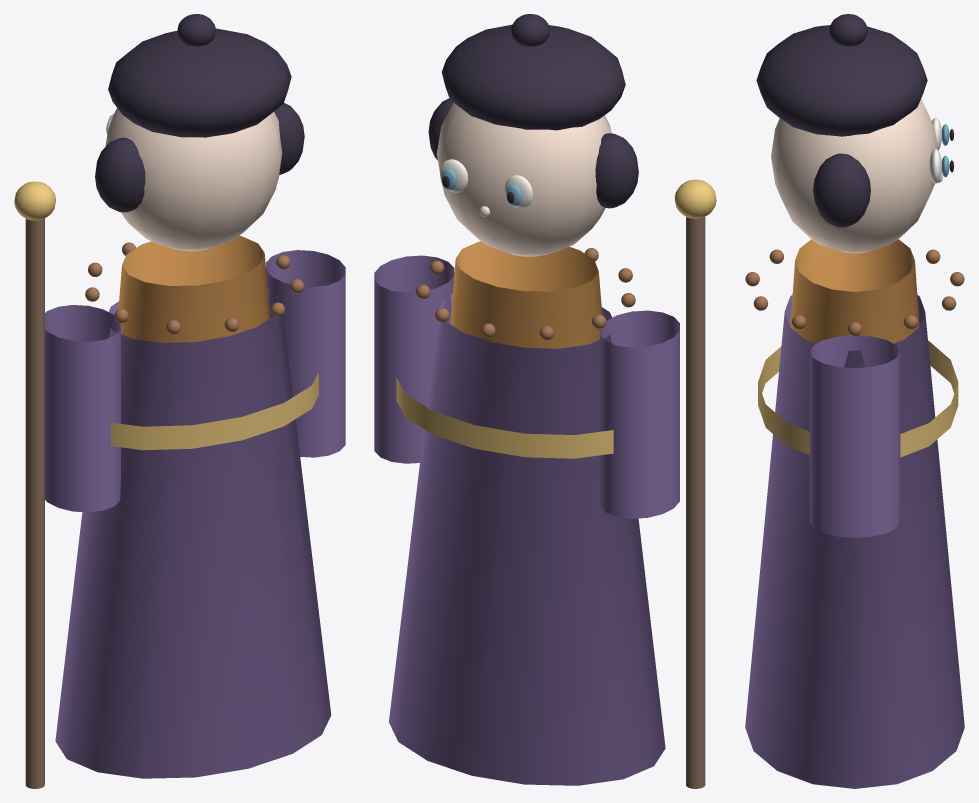
Rendered from sora.gltf.
The picture shows the model from 3 angles, left to right: view 1: azimuth 30°, elevation 25°; view 2: azimuth 150°, elevation 25°; view 3: azimuth 270°, elevation 25°; orthographic projection.
Bounding box in the file's own units: 1.17 × 2.47 × 0.68.
